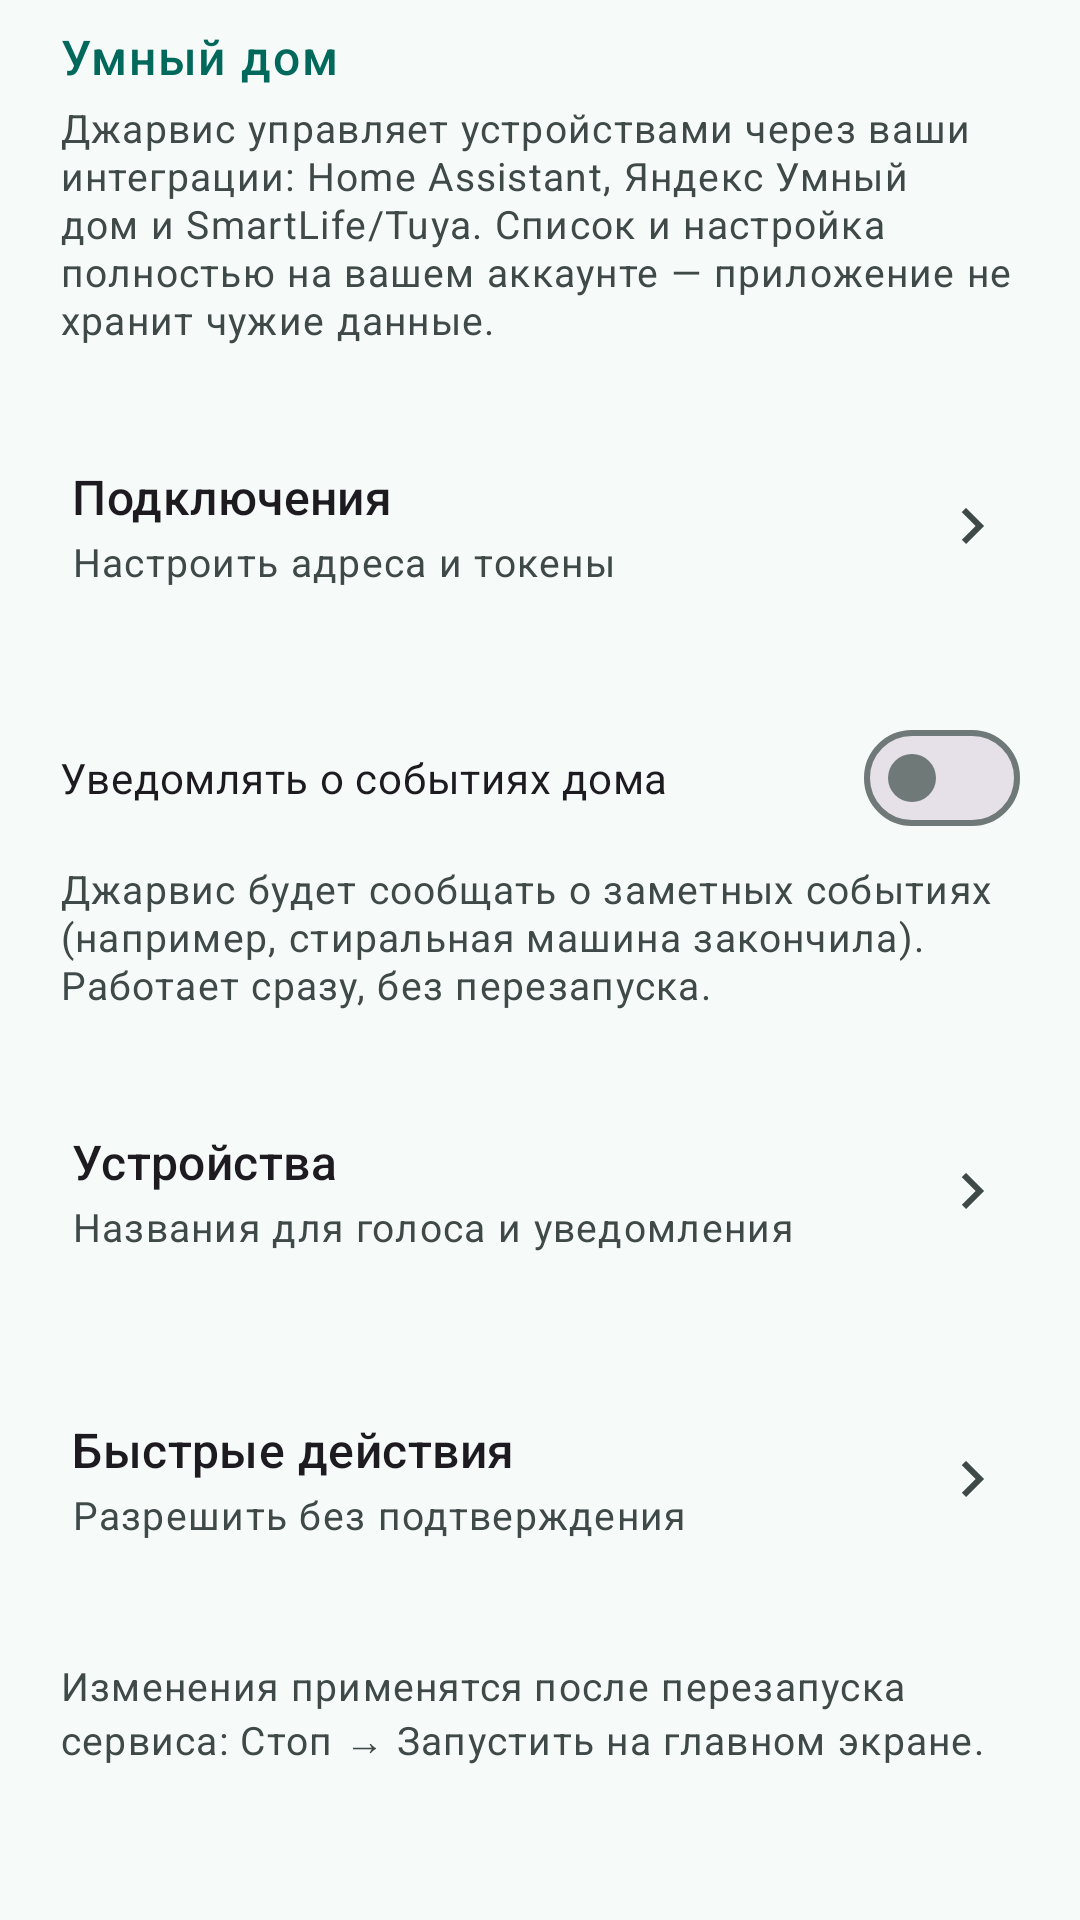

Locate icon controls on the screen. Image size 1080 x 1920, boxes as region(x1, y1, x2, y2).
keyboard arrow right: region(962, 508, 984, 544), region(962, 1173, 984, 1209), region(962, 1461, 984, 1497)
